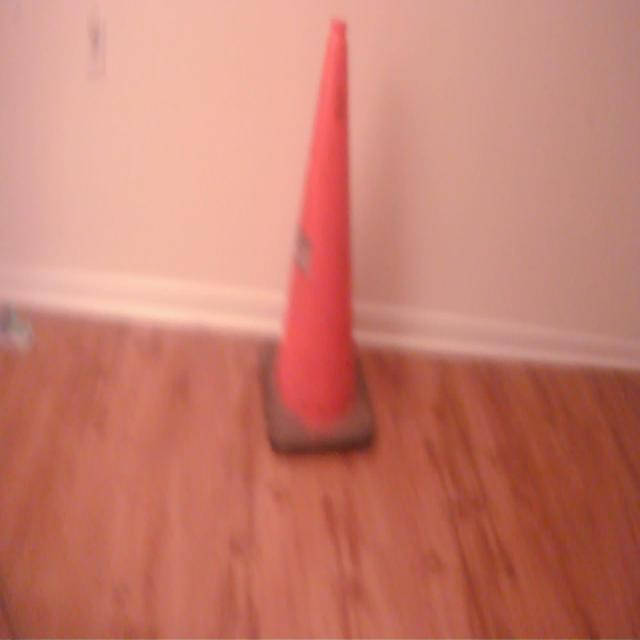traffic cone: (255, 12, 381, 464)
